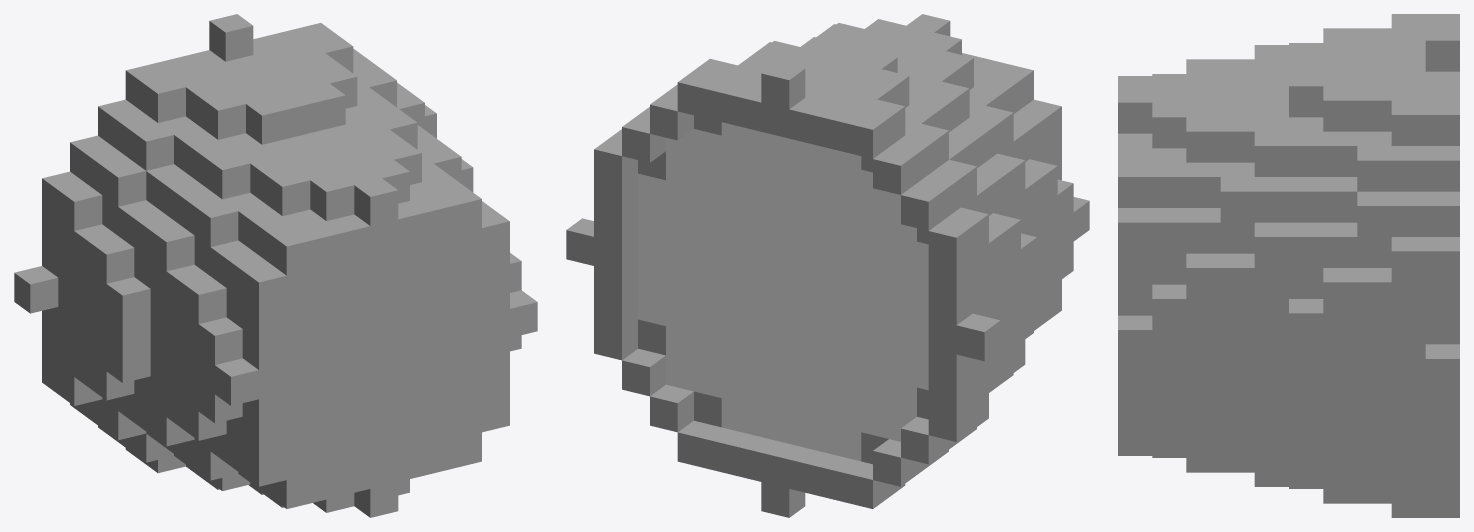
File: bacinella.gltf
3 views of the same model, side by side, from view 1: azimuth 30°, elevation 25°; view 2: azimuth 150°, elevation 25°; view 3: azimuth 270°, elevation 25° (orthographic). The views are drawn at different scales.
Visible parts, largest first — view 1: Layer.1; view 2: Layer.1, Layer.2; view 3: Layer.1.
Part boxes in pixels (x1=…): Layer.1: x1=14, y1=14, x2=537, y2=517; Layer.1: x1=566, y1=14, x2=1089, y2=517; Layer.2: x1=638, y1=122, x2=928, y2=461; Layer.1: x1=1118, y1=14, x2=1459, y2=517.
Size of the model in its own units: 15 by 15 by 10.
Materials: 1 (1 with a texture image).
